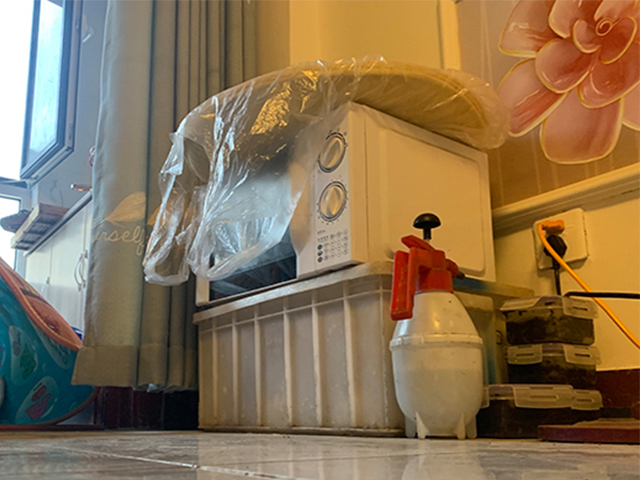curtain: (70, 1, 256, 392)
